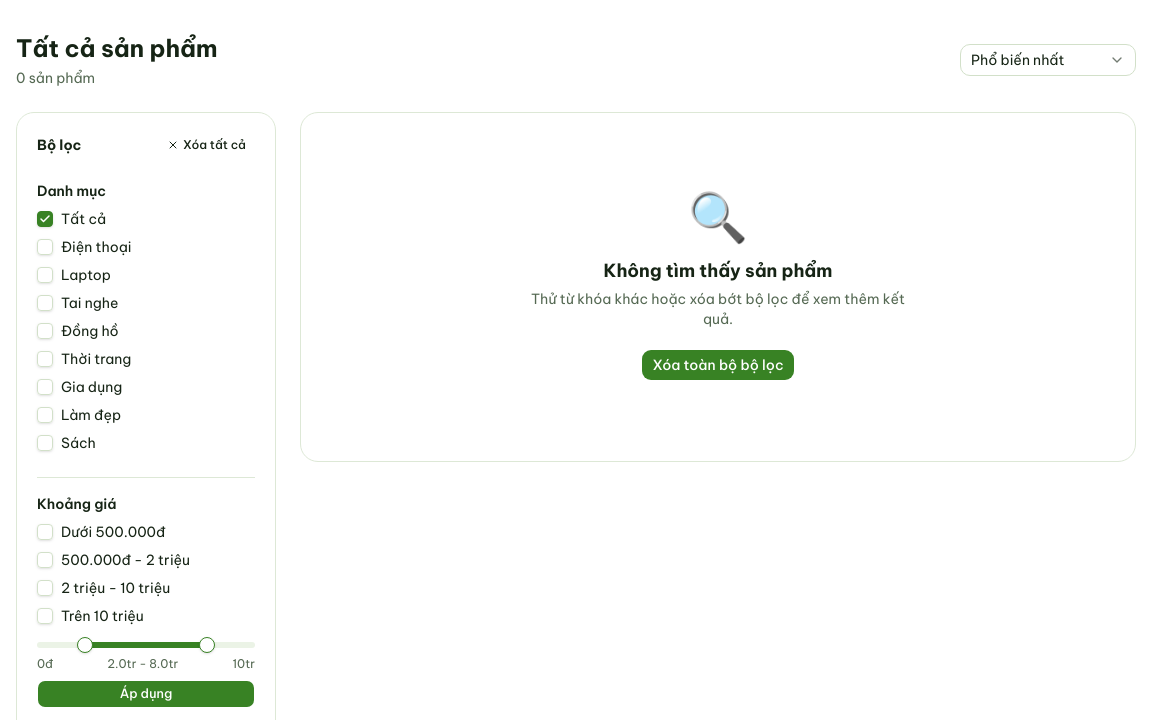
Test: SearchPage › synchronizes price slider display with URL gia param and resets when clearing filters
Expected: the heading "Không tìm thấy sản phẩm" is shown, [604,257,832,285]
Expected: the text "2.0tr - 8.0tr" is shown, [107,656,178,672]
Click the button "Xóa toàn bộ bộ lọc" at (718, 365), box [641,349,794,381]
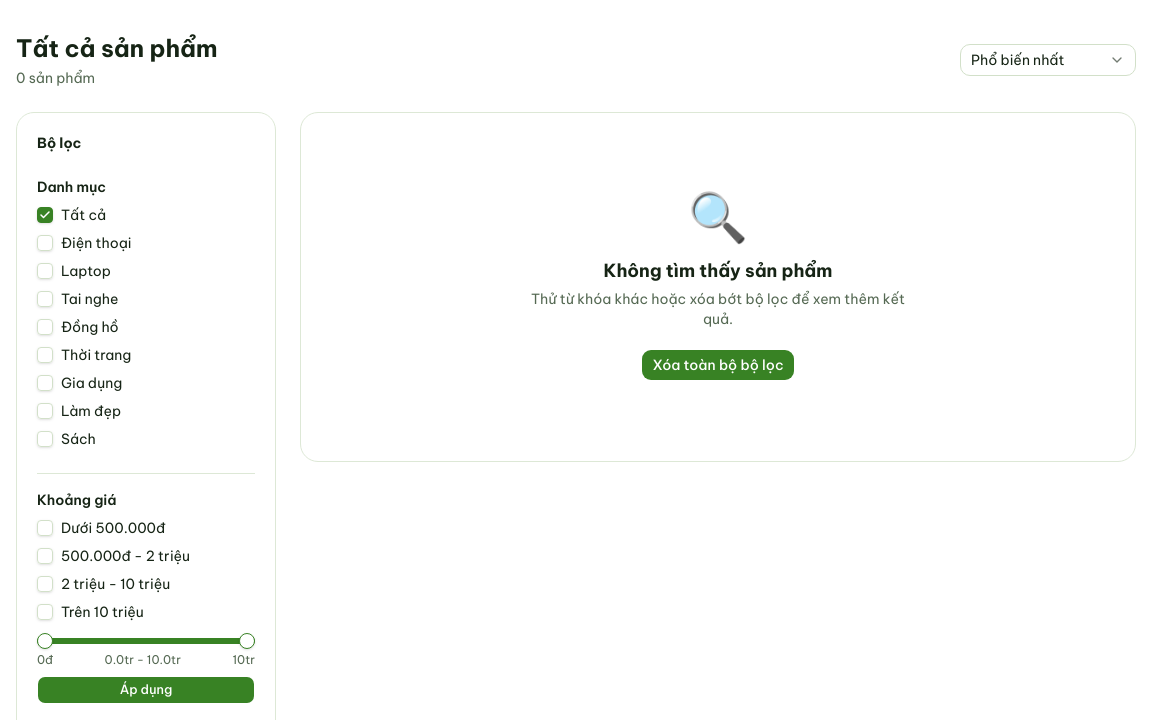
Result: the text "0.0tr - 10.0tr" is shown at [104,652,181,668]
